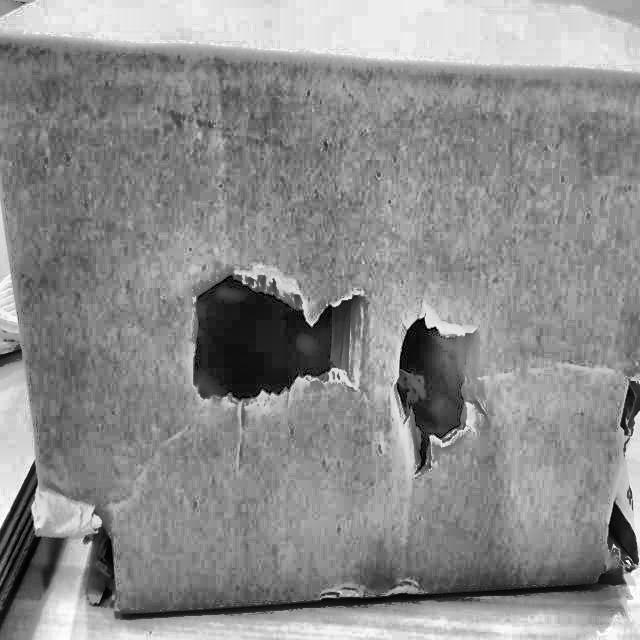box: (0, 0, 639, 624)
hole: (190, 267, 360, 409), (392, 301, 484, 485), (598, 383, 640, 553), (94, 509, 121, 611)
